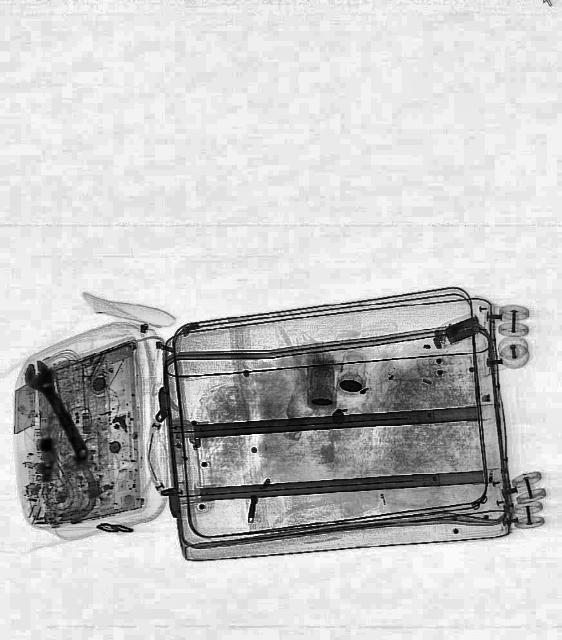Wrench: (18, 354, 100, 468)
